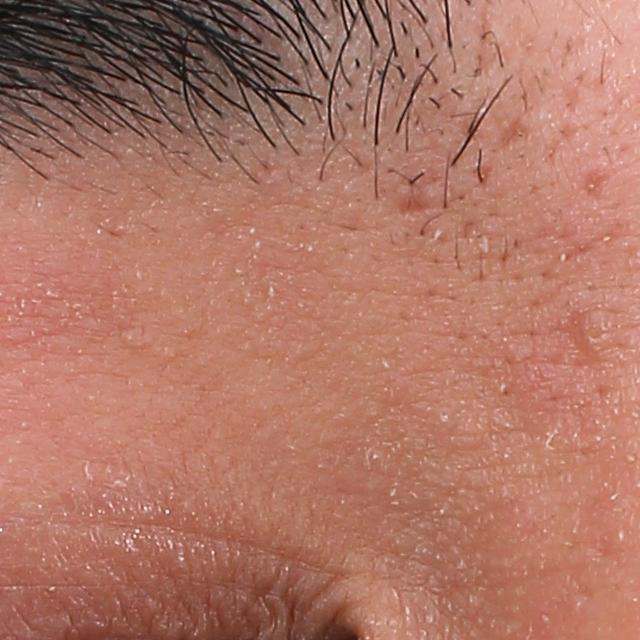atrophic_scar: (552, 308, 603, 385), (502, 120, 531, 152)
